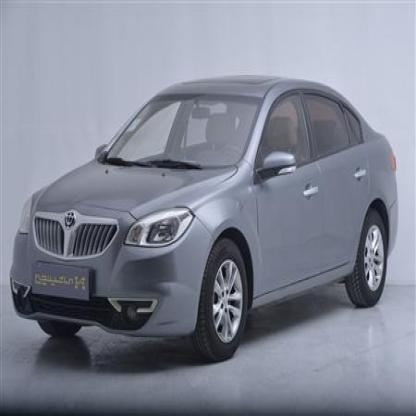Car: (6, 72, 398, 363)
